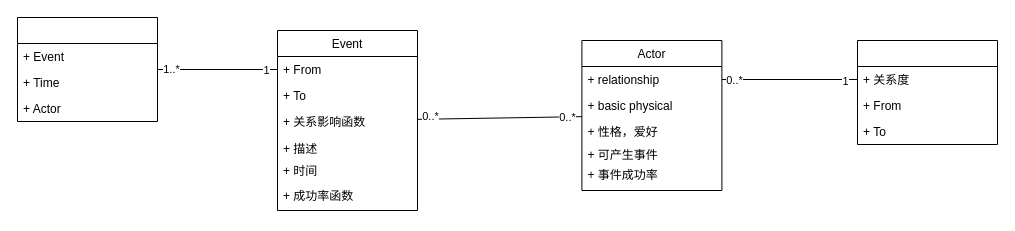
This 1015x231 diagram has some shape labels left out. The shapes that lost their labels are listed below. From the top down, each one's box as (x1, y1, x2, y2) in pixels, then its label:
(16, 16, 158, 122): Event Trigger
(856, 40, 998, 144): relation- actor
